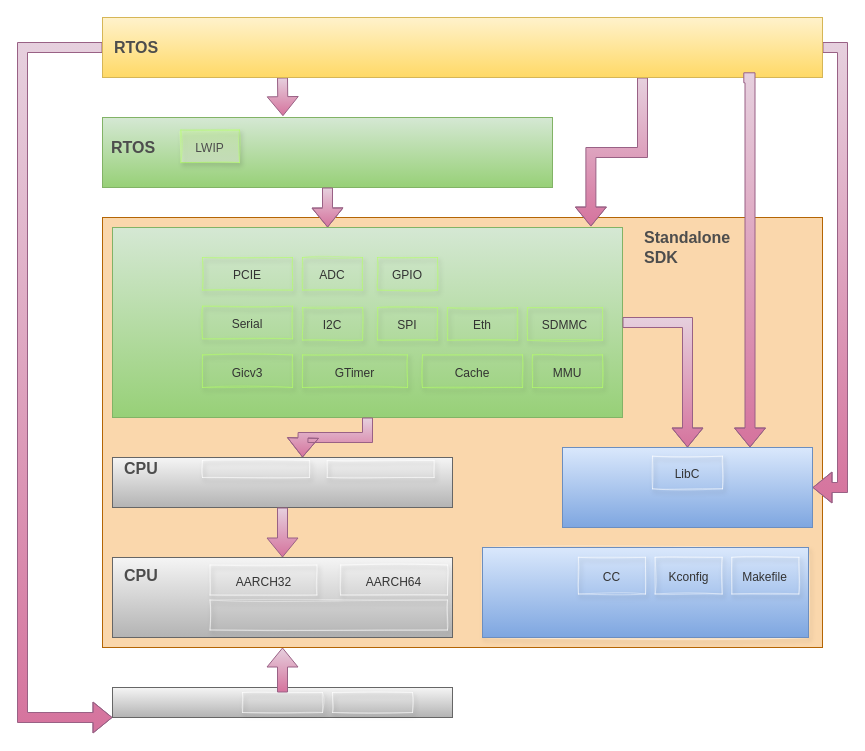
Some shapes in this 865 by 751 pixel diagram are drawn without their labels. Each missing label, with the centre of its shape:
"Armv8-a" goes at point 329,616.
"D2000" goes at point 381,469.
"FT2000/4" goes at point 256,469.
"startup.S" goes at point 283,704.
"vector.S" goes at point 373,704.
